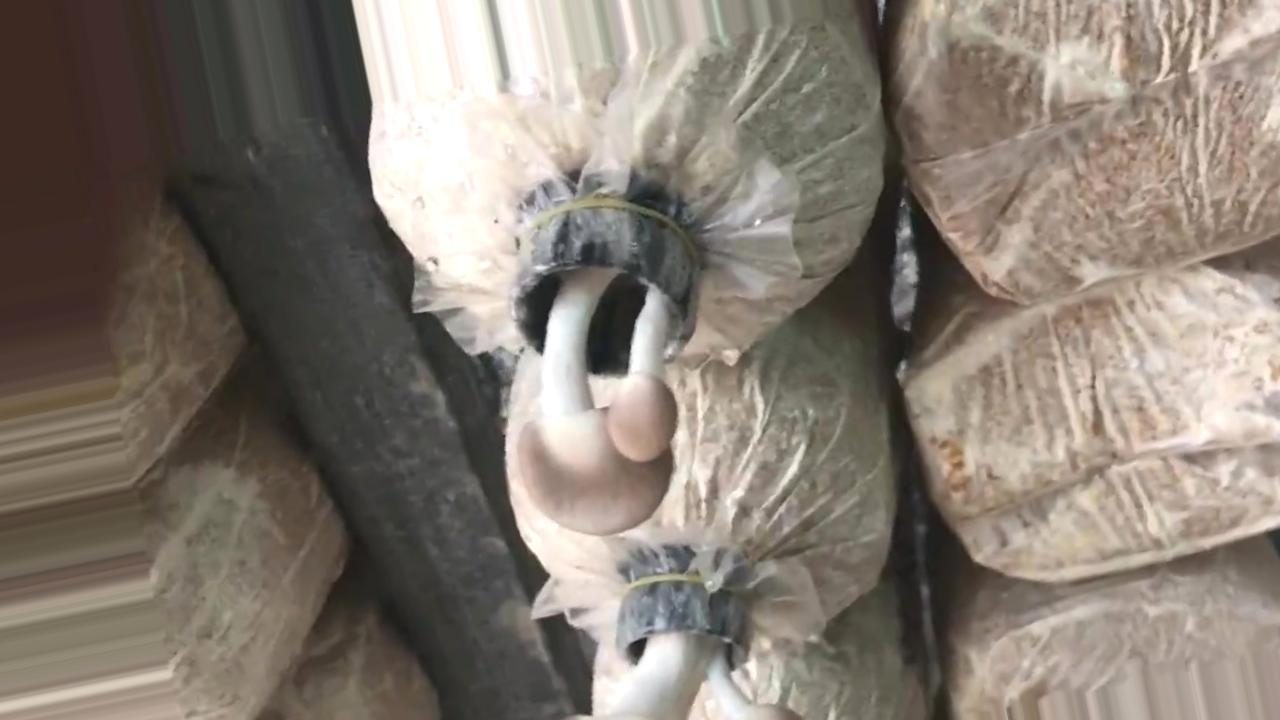nam: (510, 204, 706, 533), (613, 549, 797, 720)
